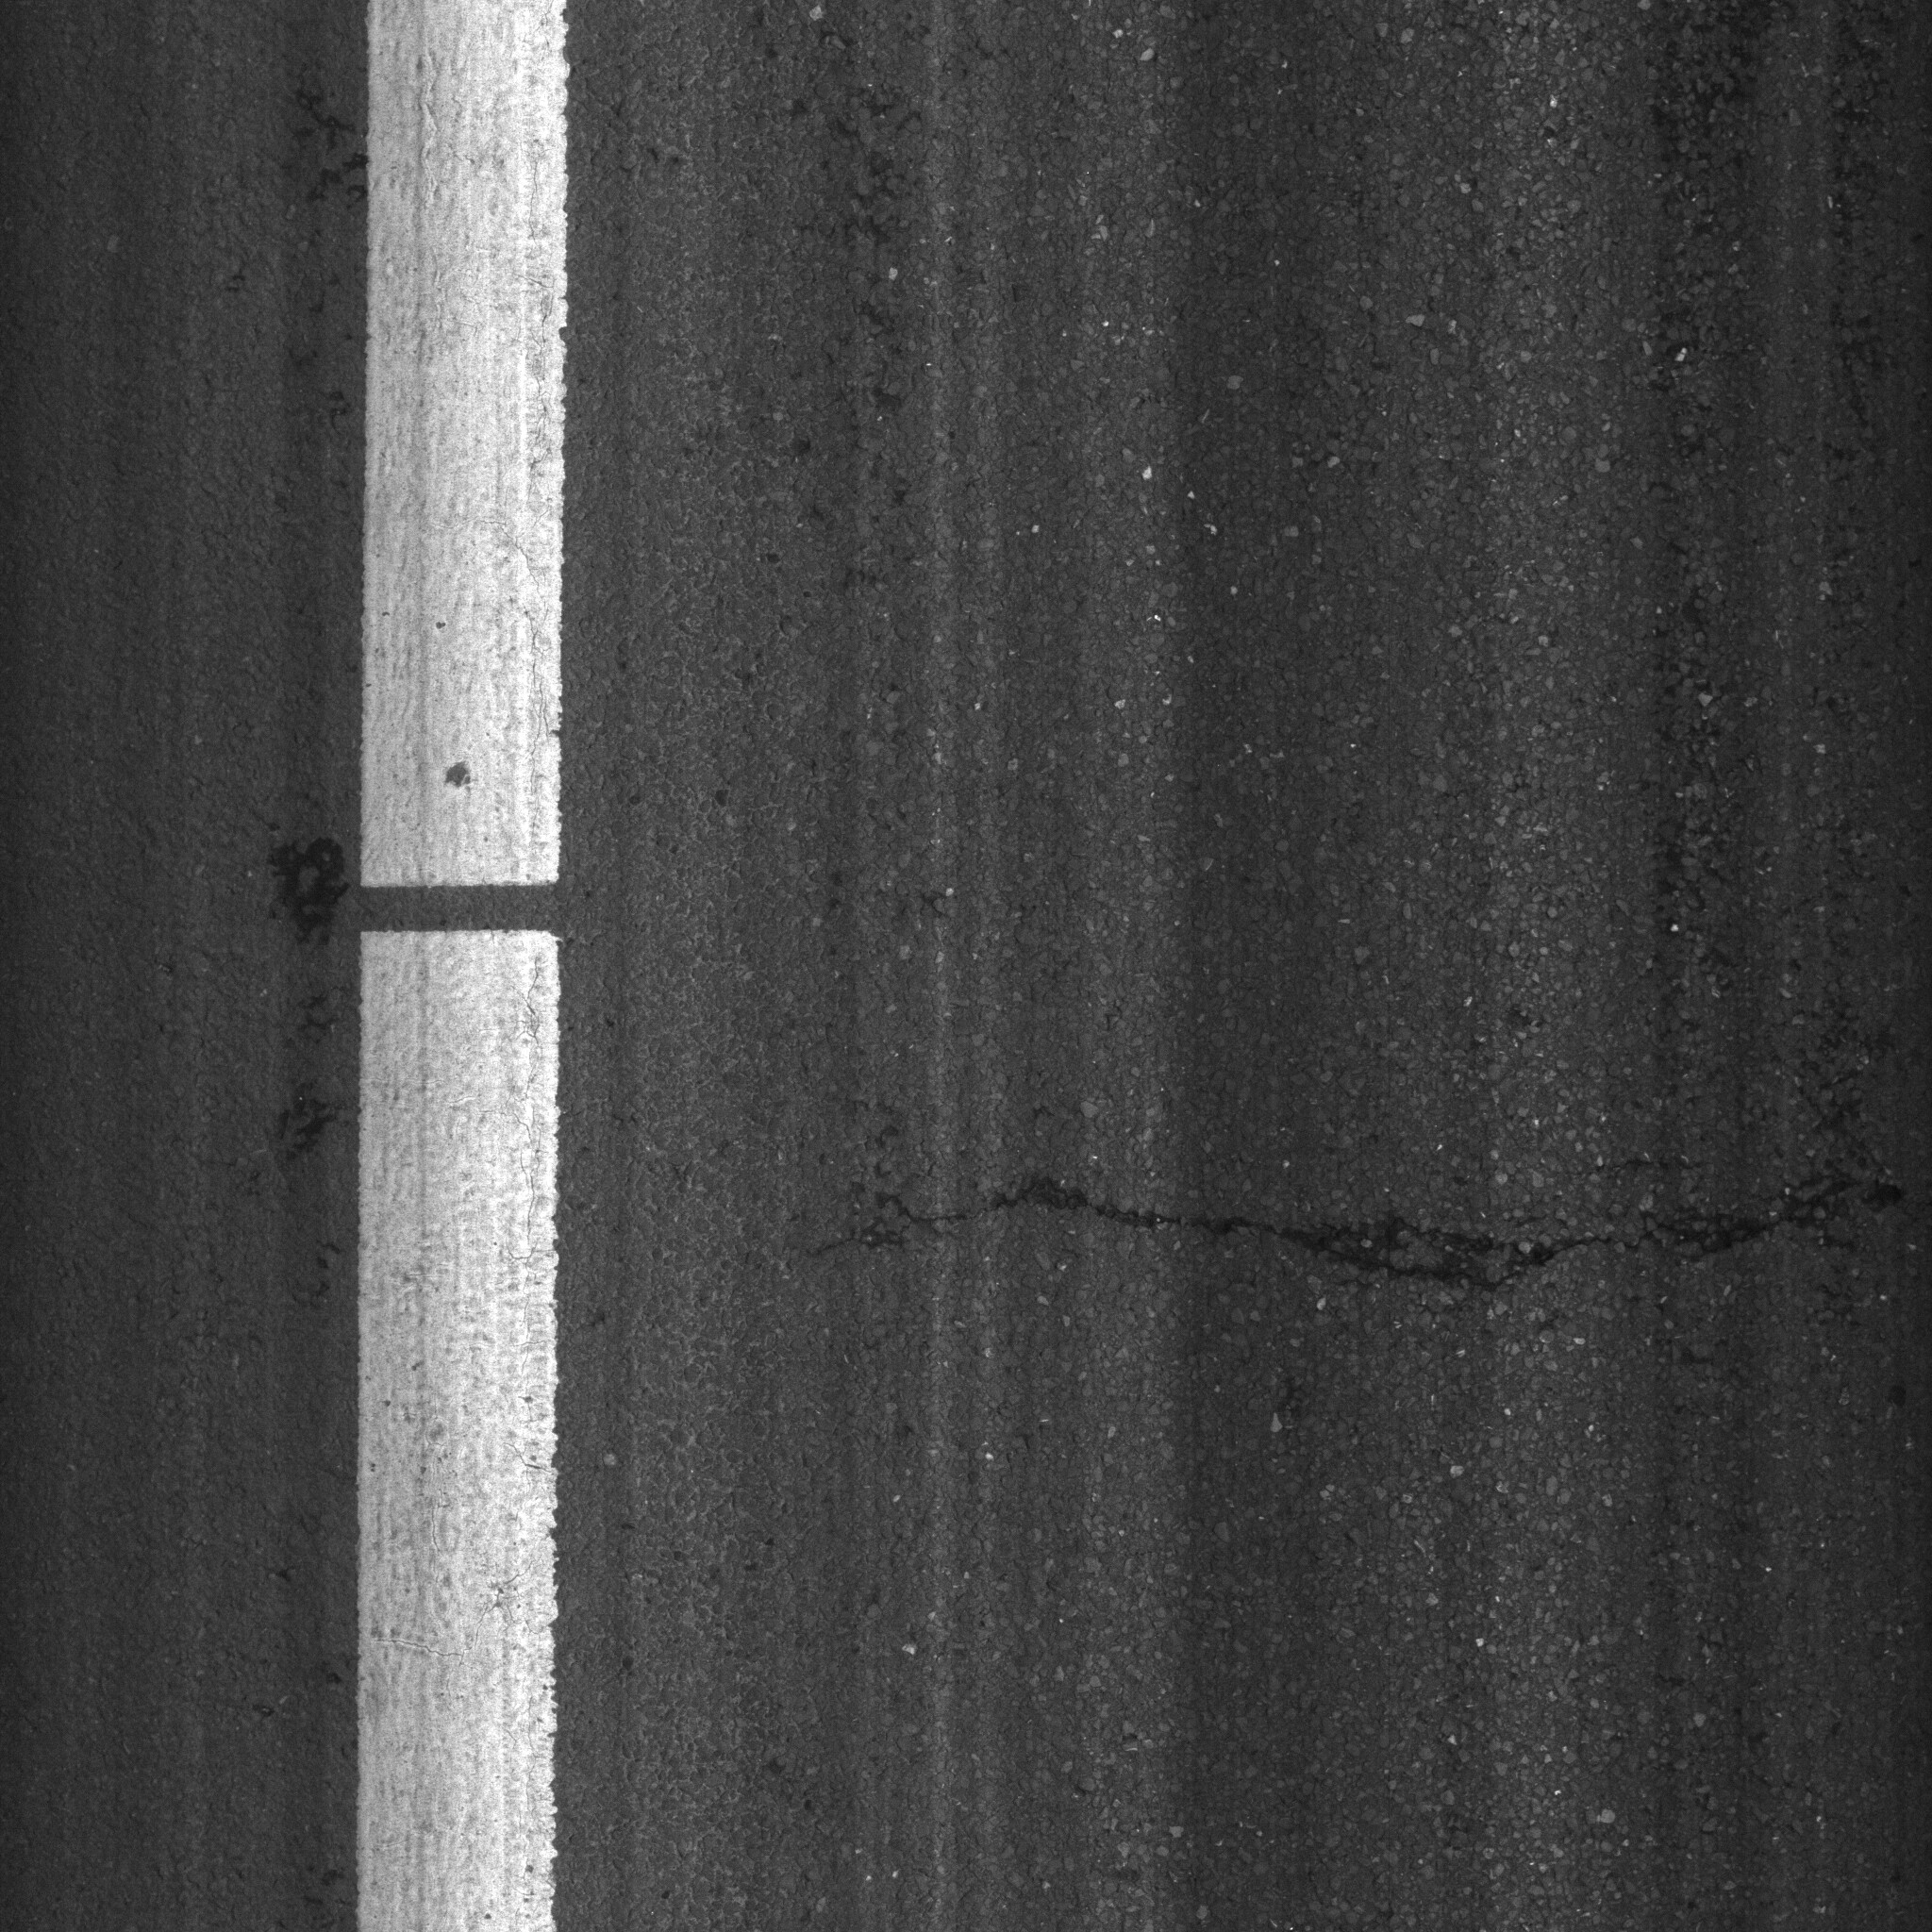transverse: (738, 1070, 1932, 1382)
